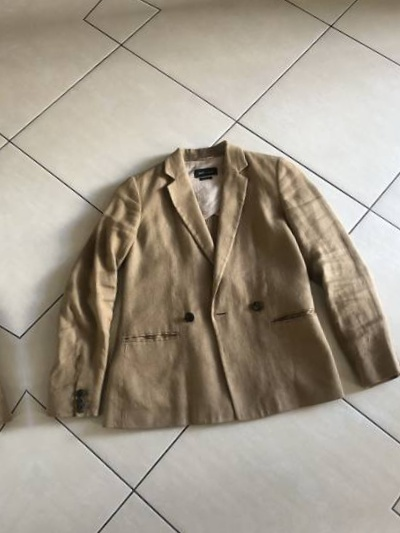Blazer: (1, 117, 400, 463), (0, 165, 32, 511)
